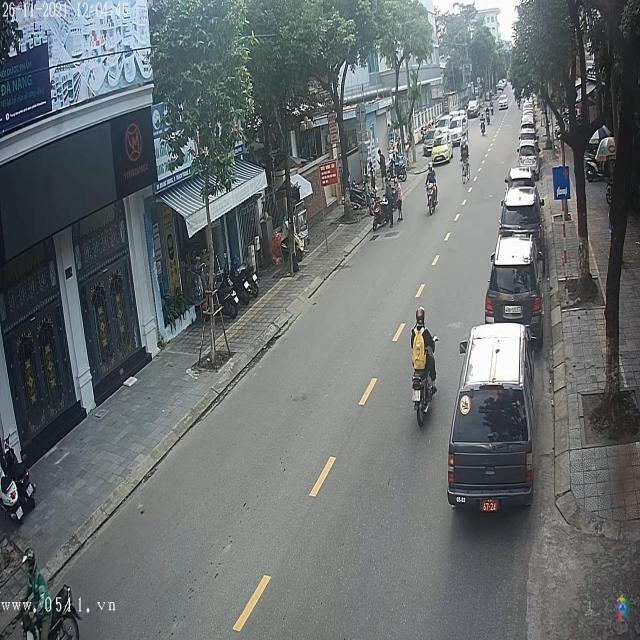car: (449, 326, 534, 510), (485, 234, 543, 332), (502, 185, 541, 228), (518, 145, 539, 168), (468, 99, 480, 117)
motorcycle: (409, 354, 439, 428), (424, 178, 440, 217)
